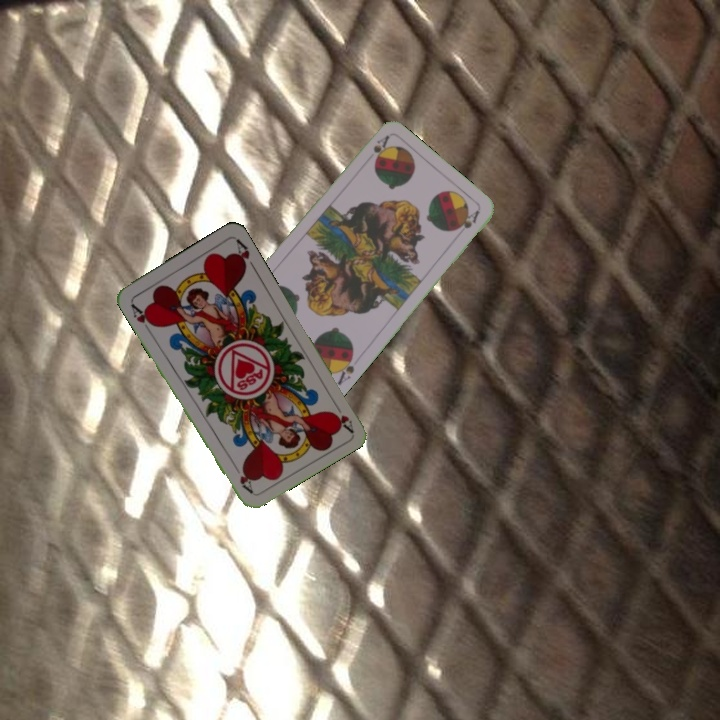HA: (327, 397, 356, 434), (127, 300, 157, 335)
SA: (333, 349, 357, 388), (369, 132, 392, 164)
